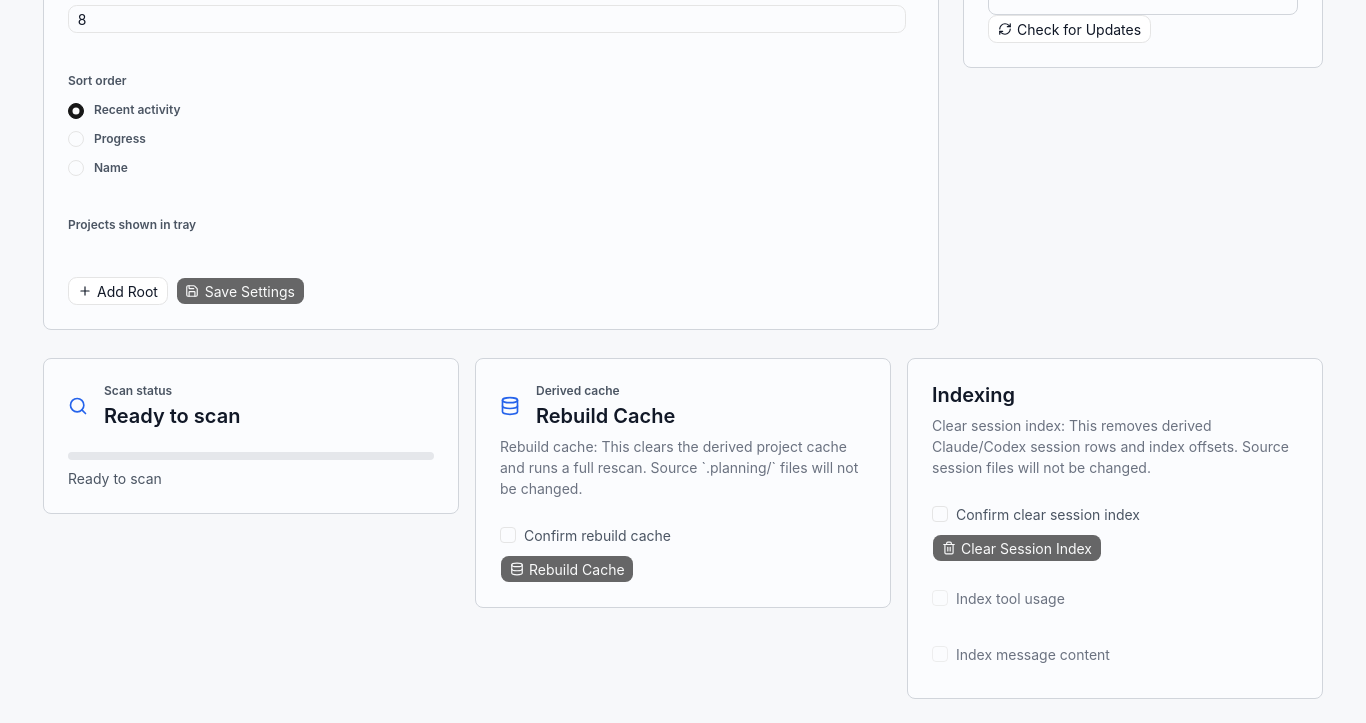
settings vertical slice › disables duplicate rebuild while rebuild_cache is in progress
The image size is (1366, 723).
(page scrolled)
Step 1. Click the checkbox named "Confirm rebuild cache" next to "Confirm rebuild cache" → [508, 535], box left=500, top=527, right=516, bottom=543
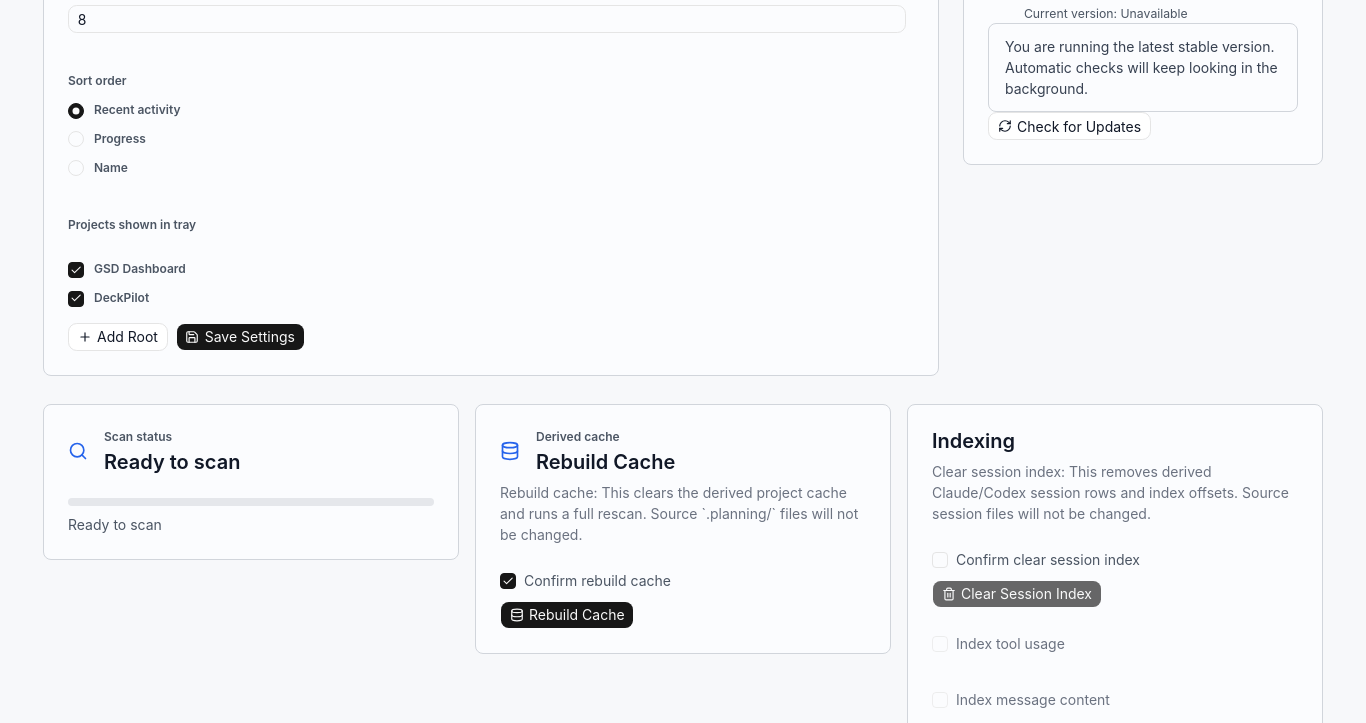
Step 2. Click the button "Rebuild Cache" → [567, 615], box left=500, top=601, right=634, bottom=629
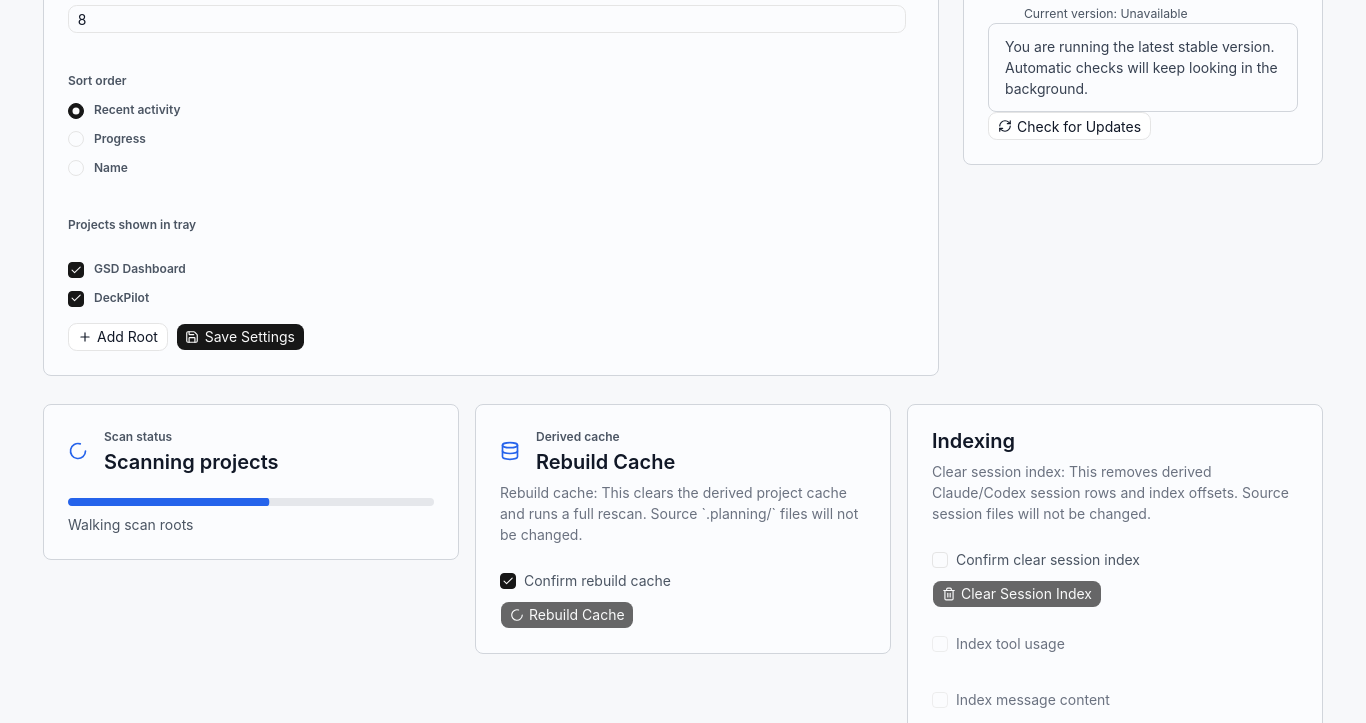
Check: the button "Rebuild Cache" is disabled, box left=500, top=601, right=634, bottom=629
